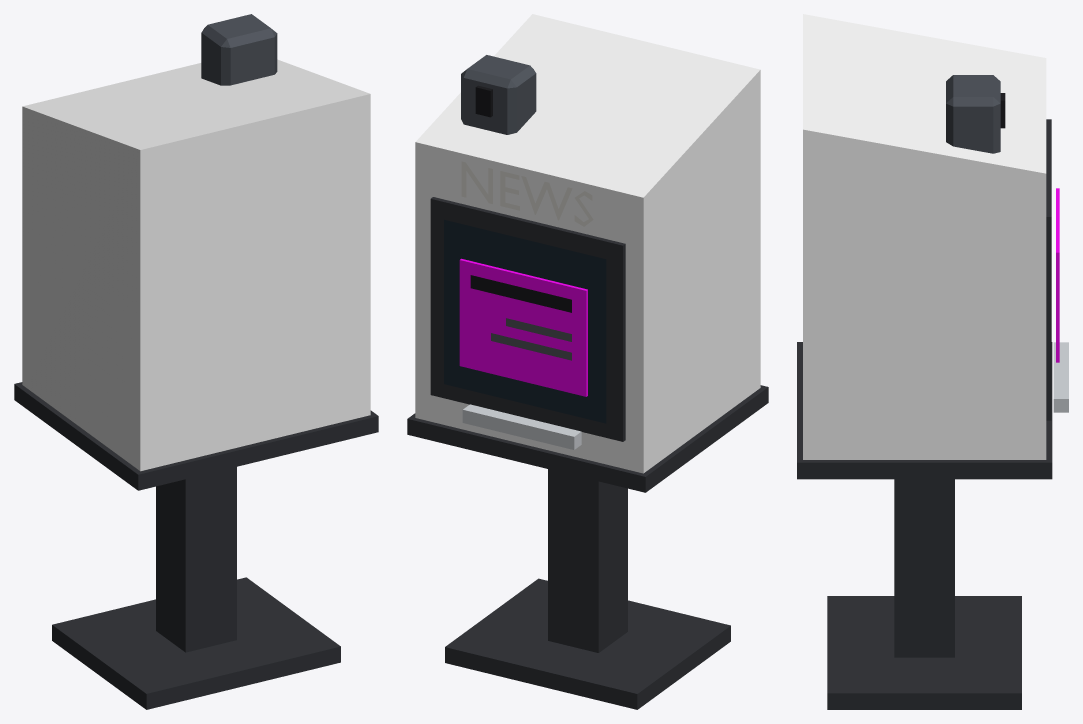
File: prop_newsbox.glb
3 views of the same model, side by side, from view 1: azimuth 30°, elevation 25°; view 2: azimuth 150°, elevation 25°; view 3: azimuth 270°, elevation 25° (orthographic). The views are drawn at different scales.
Visible parts, largest first — view 1: prop_newsbox__mesh; view 2: prop_newsbox__mesh; view 3: prop_newsbox__mesh.
Part boxes in pixels (x1=…): prop_newsbox__mesh: x1=14, y1=14, x2=378, y2=709; prop_newsbox__mesh: x1=407, y1=14, x2=768, y2=709; prop_newsbox__mesh: x1=797, y1=14, x2=1068, y2=709.
Bounding box in the file's own units: 0.47 × 1.11 × 0.4475.
Materials: 1 (1 with a texture image).
